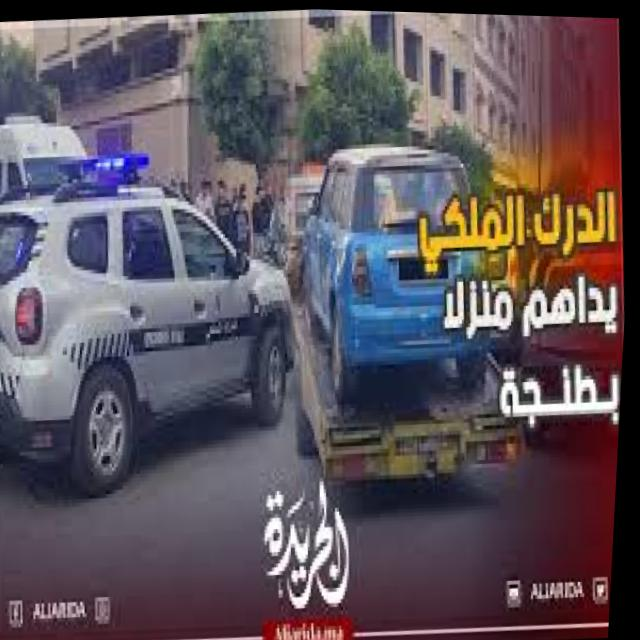gendarme car: (0, 110, 321, 508)
